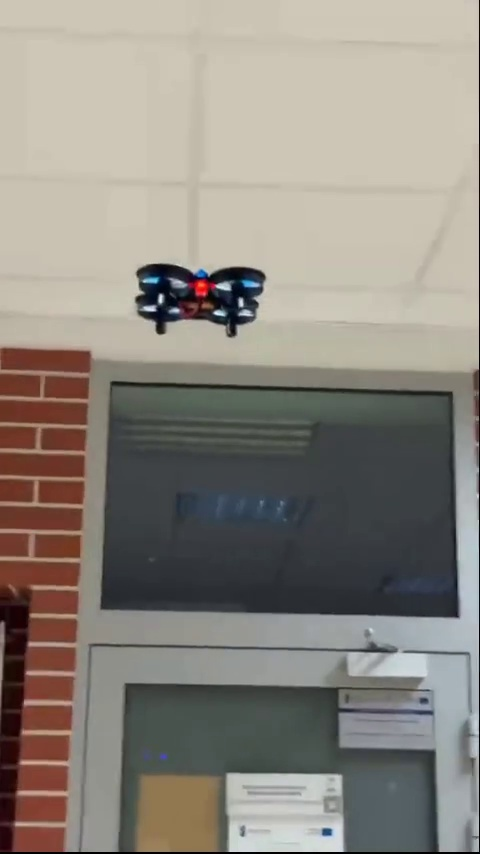drone: (131, 258, 265, 336)
